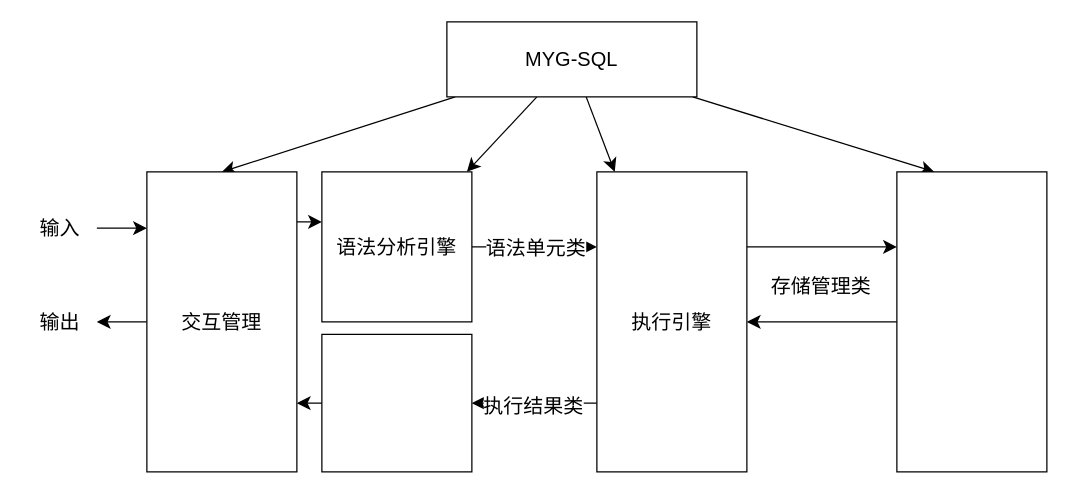
Image size: 1069x494. Some labels were removed from this diagram. The shapes that lost their labels are listed below. From the top down, each one's centre as x and y in pixels, then its label:
the point at 971,321: 存储引擎
the point at 396,402: 格式化引擎
